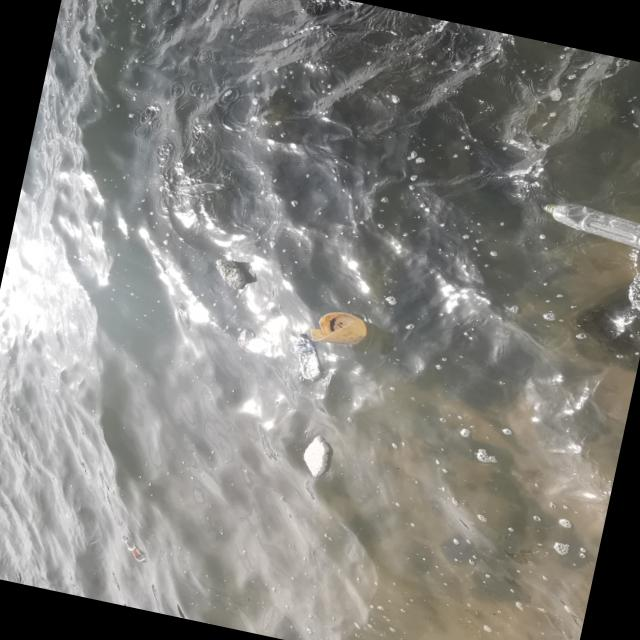foam: (296, 435, 334, 480), (212, 256, 255, 291)
plastic bottle: (533, 196, 640, 255), (286, 333, 328, 383), (179, 175, 230, 205), (115, 534, 153, 565)
